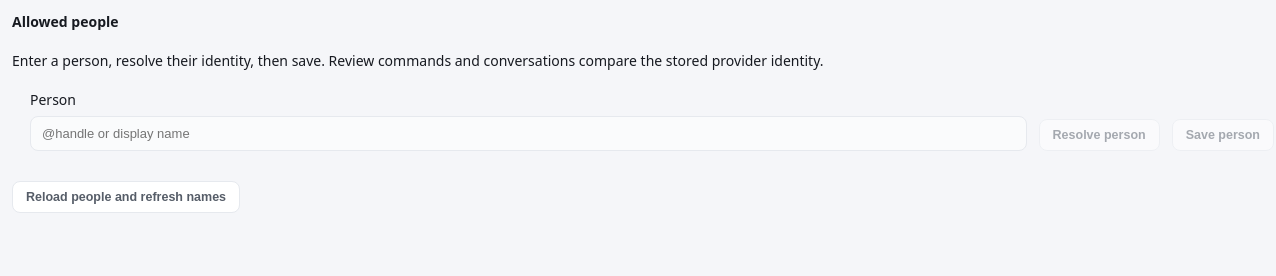
Test: shows the refreshed names after Reload, with no plain read replacing them
Click the button "Reload people and refresh names" at (126, 197), box [12,181,240,213]
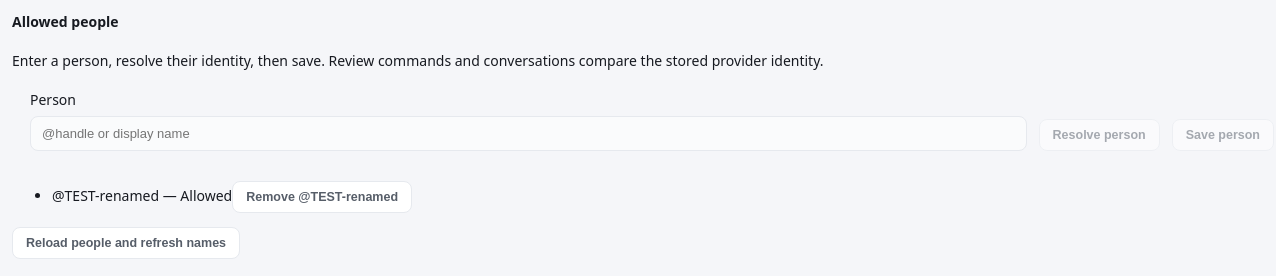
Result: the text "@TEST-renamed" is shown at [52,186,159,205]
